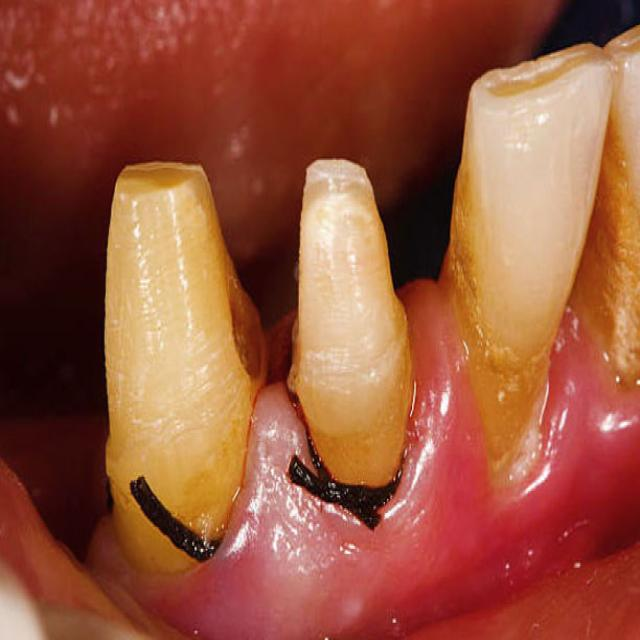caries: (212, 270, 271, 376)
